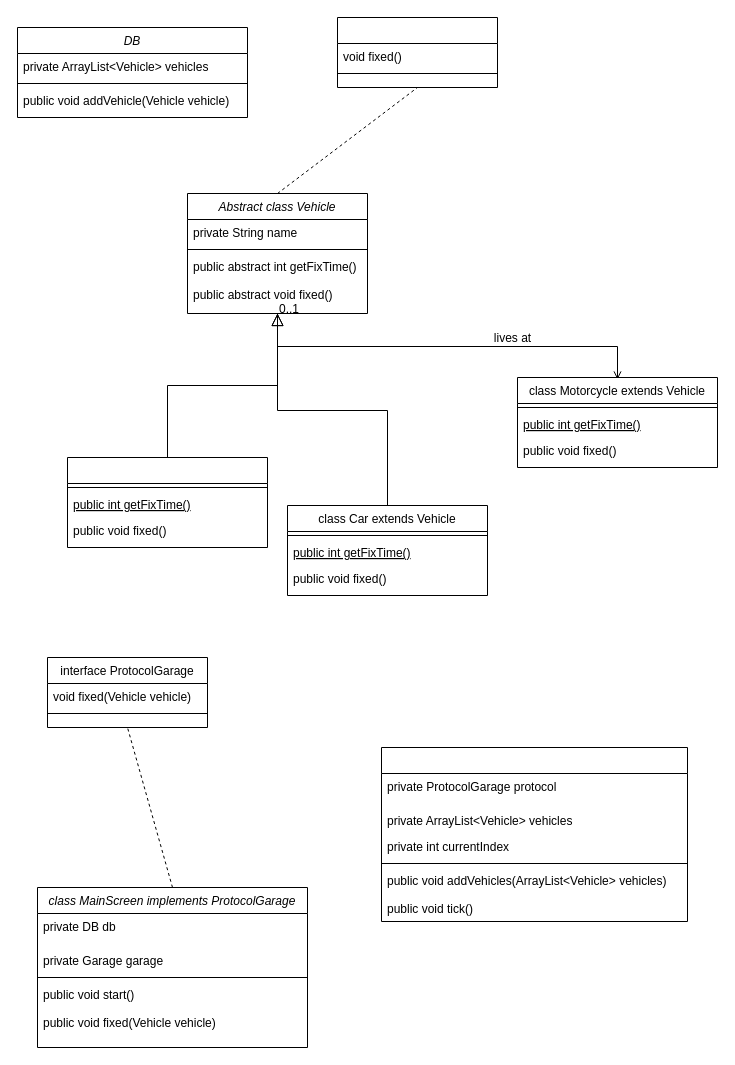
This 735x1065 diagram has some shape labels left out. The box of each missing label's shape, as (x1, y1, x2, y2) in pixels:
Class Garage: (380, 746, 688, 922)
class Truck extends Vehicle: (66, 456, 268, 548)
Interface Fixable: (336, 16, 498, 88)
